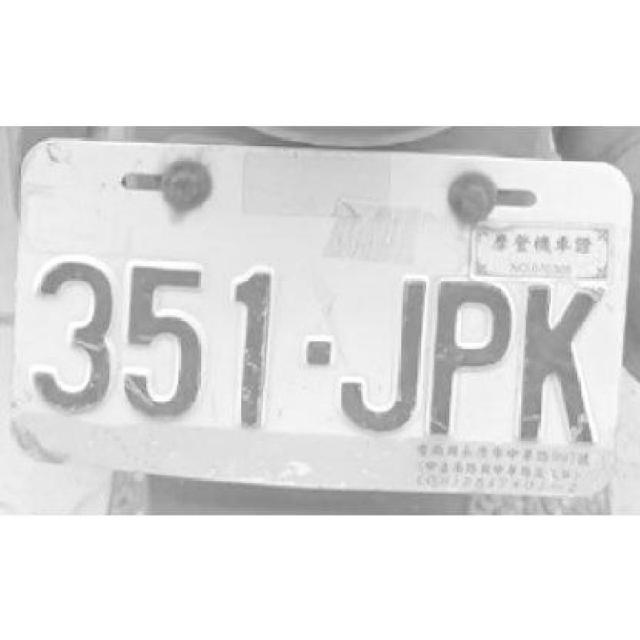-: (304, 334, 334, 368)
1: (226, 260, 272, 428)
3: (26, 249, 117, 411)
5: (118, 254, 204, 419)
J: (329, 271, 427, 432)
K: (509, 278, 603, 443)
P: (420, 272, 514, 433)
